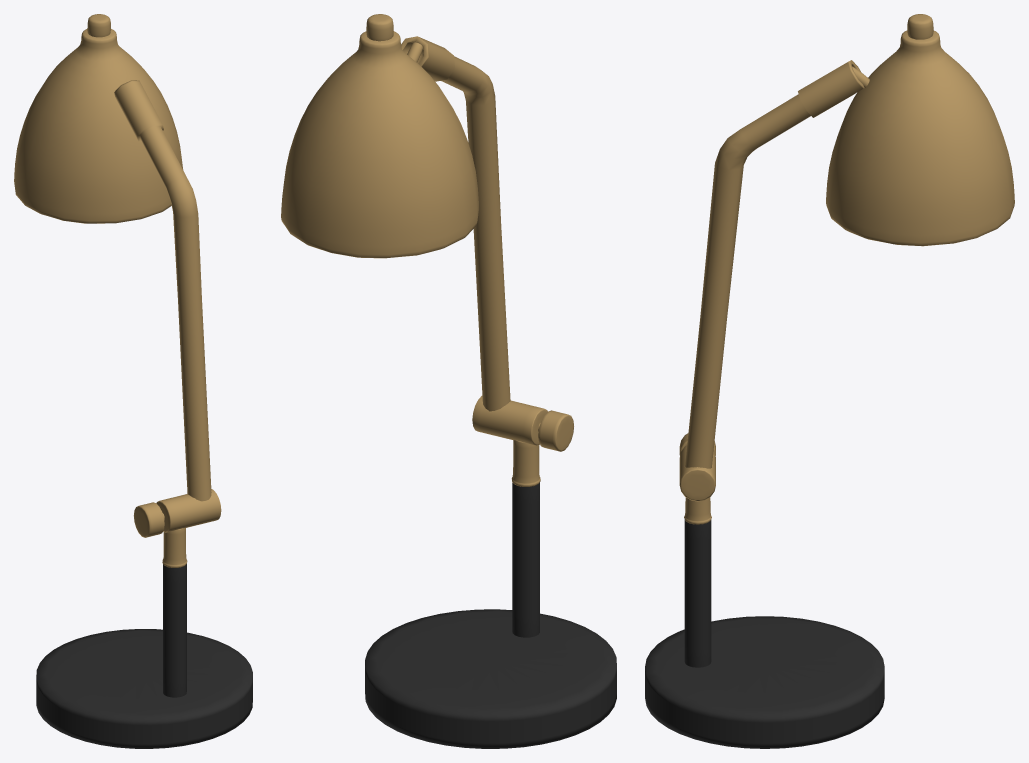
Rendered from Lamp.fbx.
3 views of the same model, side by side, from view 1: azimuth 30°, elevation 25°; view 2: azimuth 150°, elevation 25°; view 3: azimuth 270°, elevation 25° (orthographic). The views are drawn at different scales.
Parts seen in each view (by area): view 1: pCylinder37; view 2: pCylinder37; view 3: pCylinder37.
Boxes of the visible parts, <box> form: pCylinder37: <box>14,14,252,748</box>; pCylinder37: <box>281,14,616,748</box>; pCylinder37: <box>645,14,1014,748</box>.
Size of the model in its own units: 12.53 by 39.11 by 18.81.
